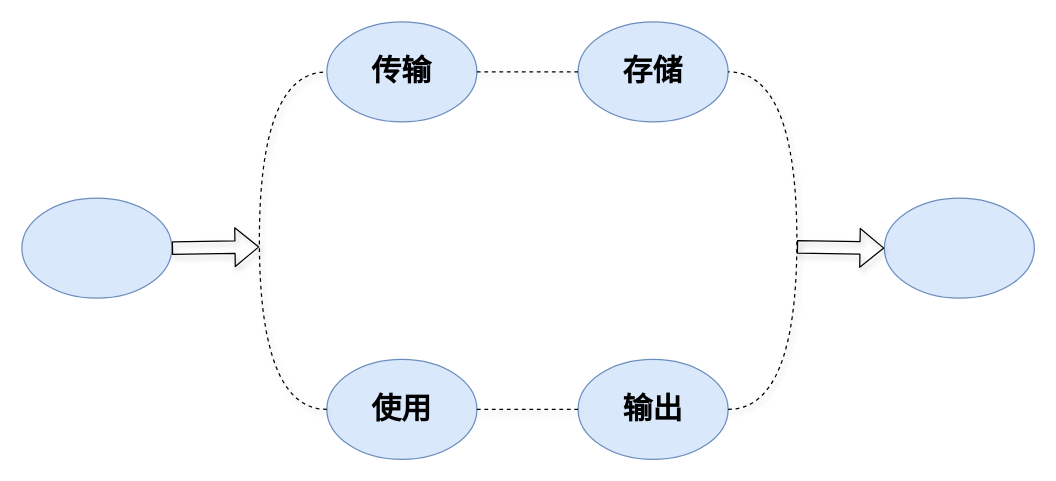
Some shapes in this 1056 by 481 pixel diagram are drawn without their labels. Here are the shapes that lost their labels. From the top down, the centre of each, then its label:
At point (96, 247): "收集".
At point (958, 247): "销毁".
